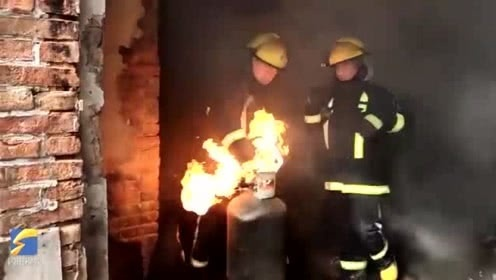fire: (177, 103, 290, 212)
